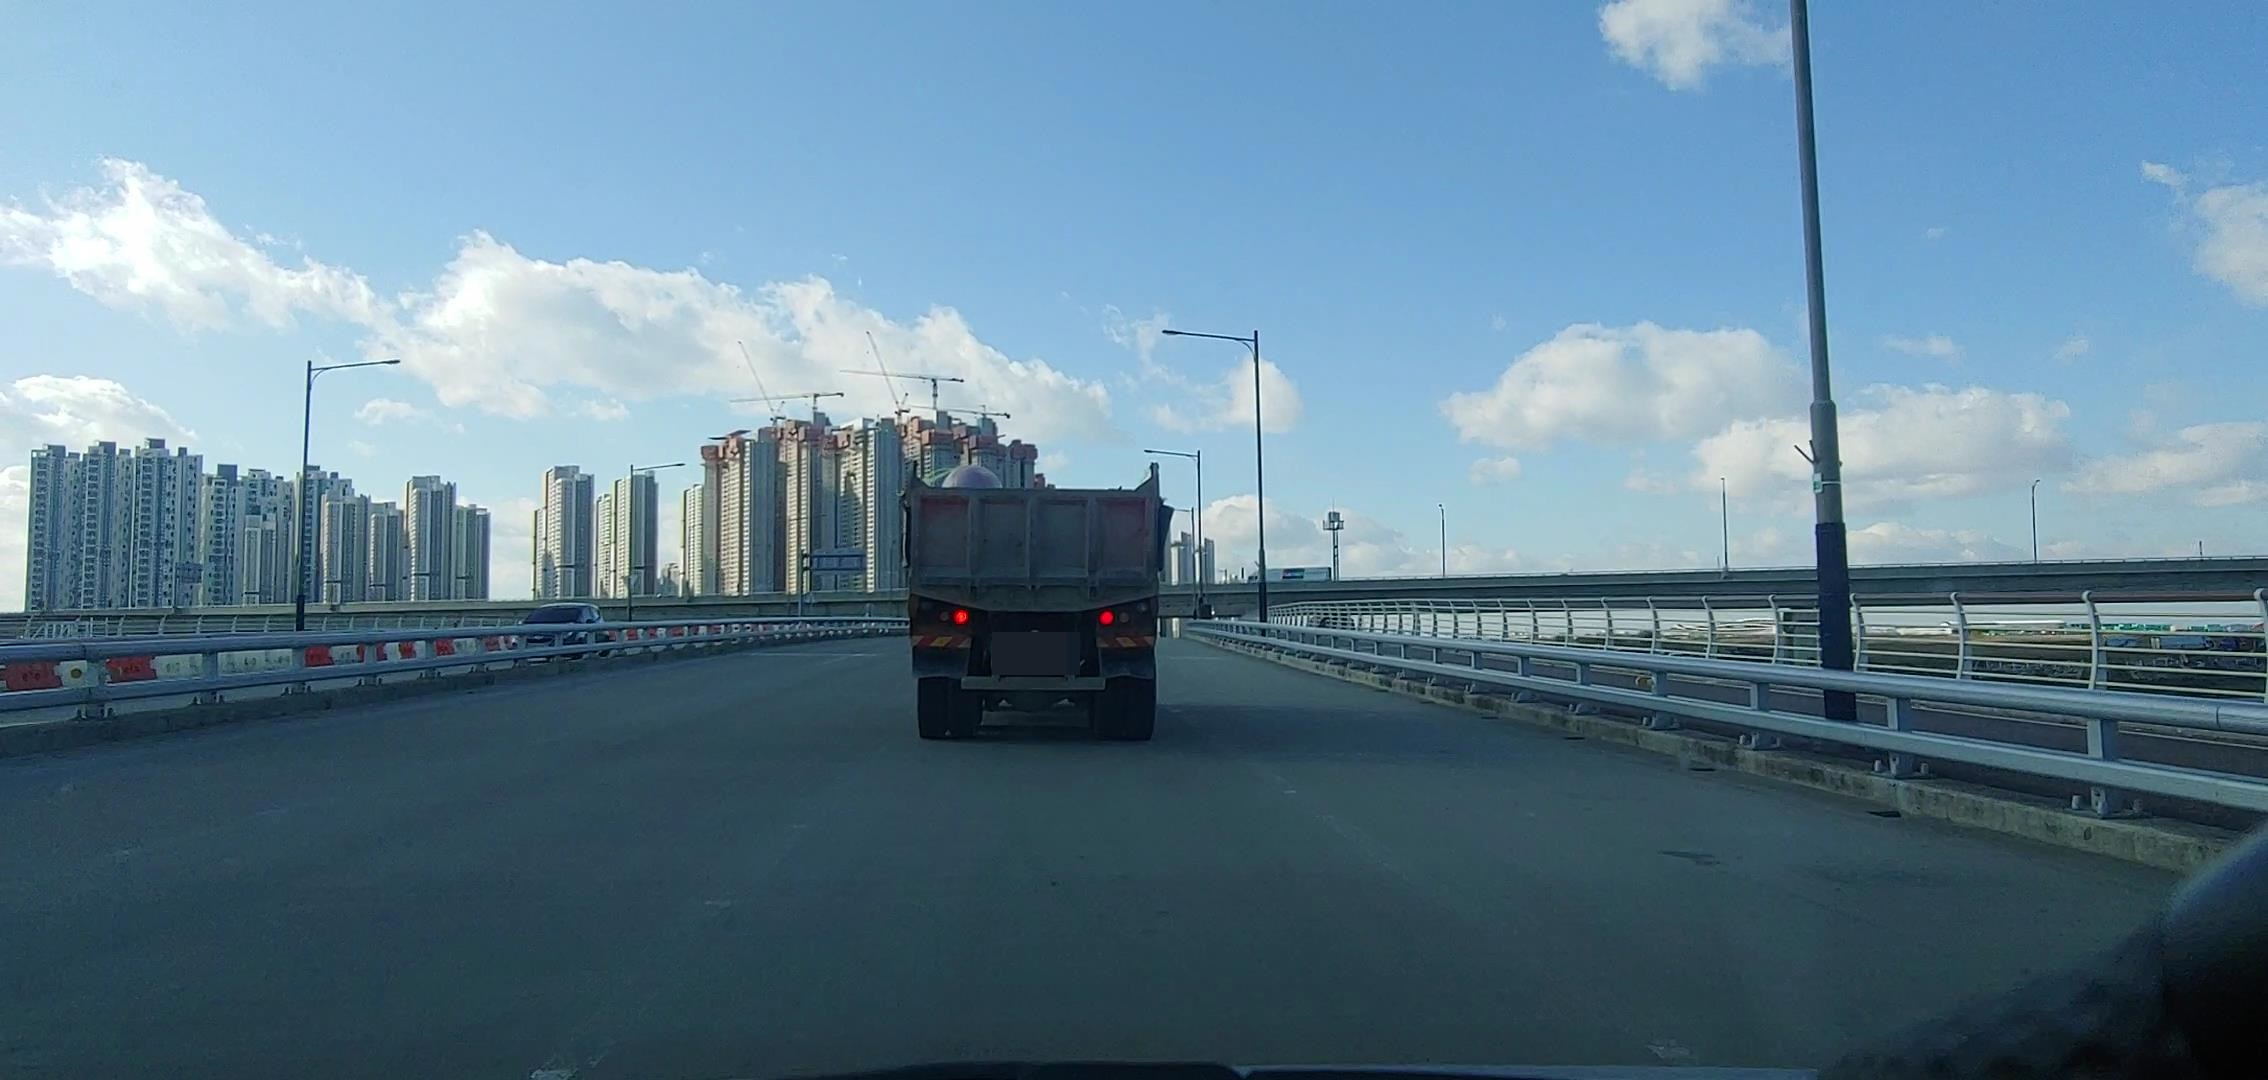불법차량: (895, 461, 1176, 740)
